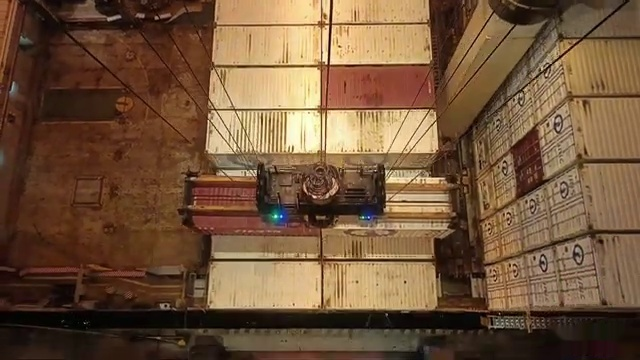container: (177, 170, 483, 238), (203, 260, 444, 313), (208, 207, 437, 258), (204, 108, 438, 153), (204, 65, 438, 108), (208, 24, 436, 65), (209, 0, 433, 24)
guide_mark: (108, 328, 514, 348), (80, 345, 555, 360)
spreader: (177, 158, 473, 231)
target_slot: (169, 165, 468, 239)
